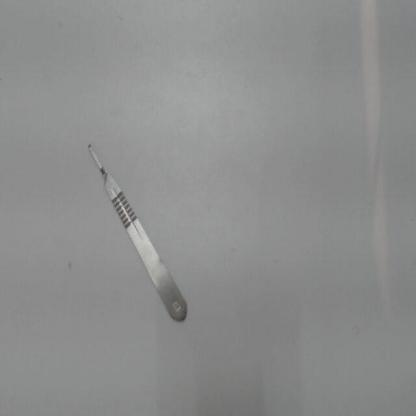No.3 BP Handle: (71, 124, 201, 341)
